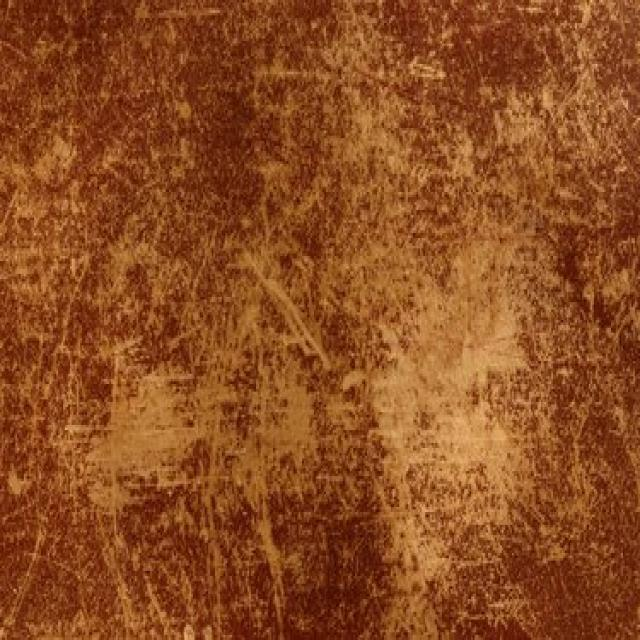Rotten surface: (355, 270, 553, 536), (66, 331, 316, 532)
